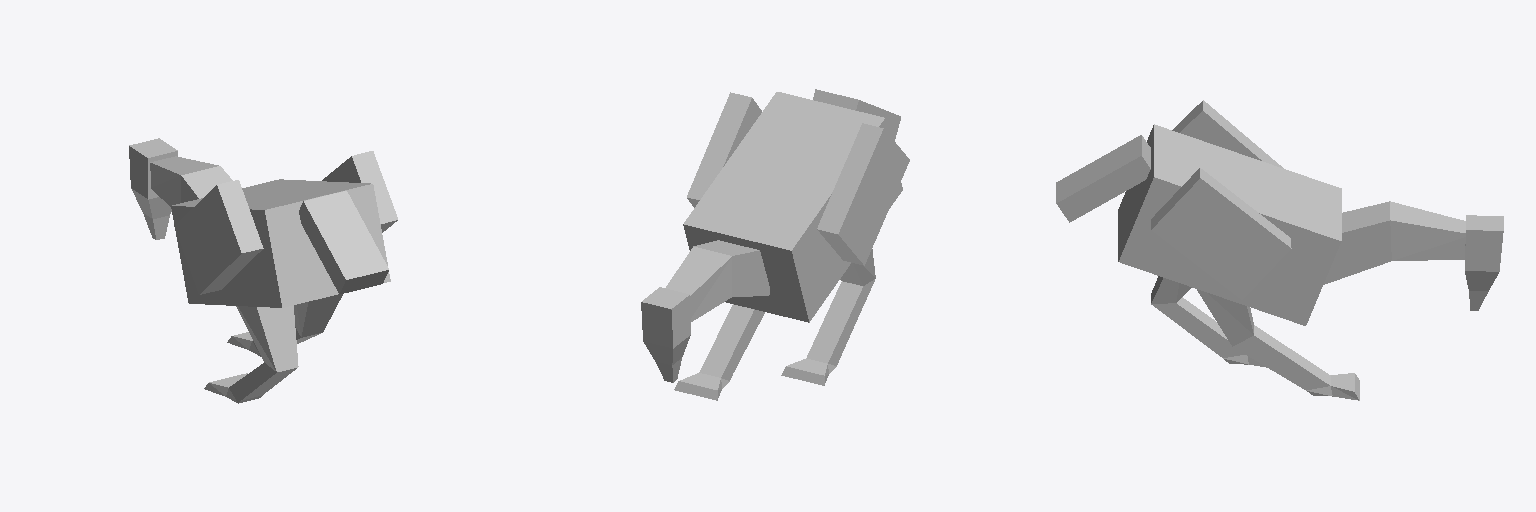
The model's file is Ostrich_000147.obj.
The picture shows the model from 3 angles: view 1: azimuth 30°, elevation 25°; view 2: azimuth 150°, elevation 25°; view 3: azimuth 270°, elevation 25°; orthographic projection.
Parts seen in each view (by area): view 1: Cube_Cube.001; view 2: Cube_Cube.001; view 3: Cube_Cube.001.
Boxes of the visible parts, box(x1,y1,x2,y2) form: Cube_Cube.001: box(129, 138, 397, 403); Cube_Cube.001: box(641, 89, 909, 400); Cube_Cube.001: box(1056, 100, 1503, 400).
Size of the model in its own units: 0.721 by 1.04 by 1.78.